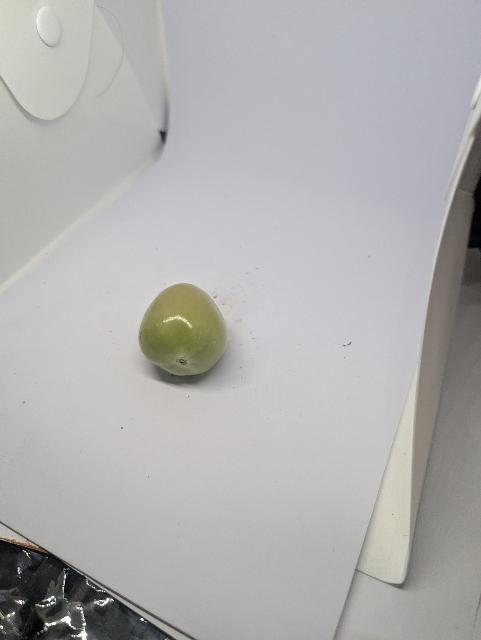green: (118, 271, 245, 394)
